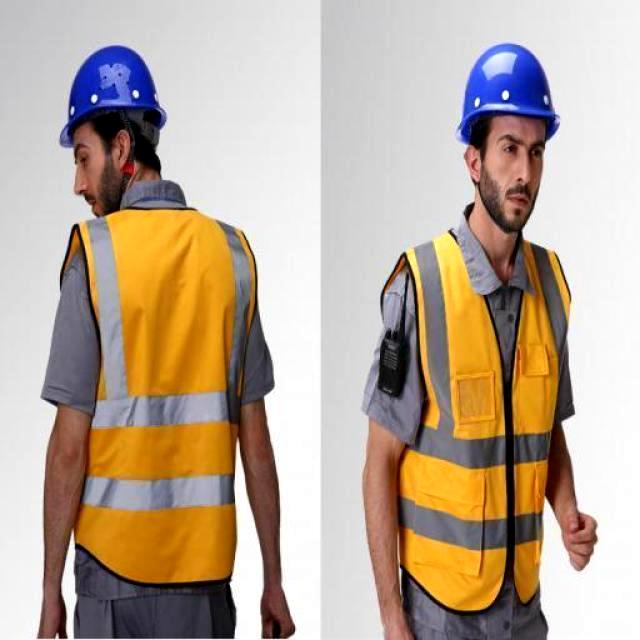hard_hat: (60, 45, 165, 148), (456, 42, 559, 144)
person: (37, 46, 292, 639), (362, 44, 599, 639)
